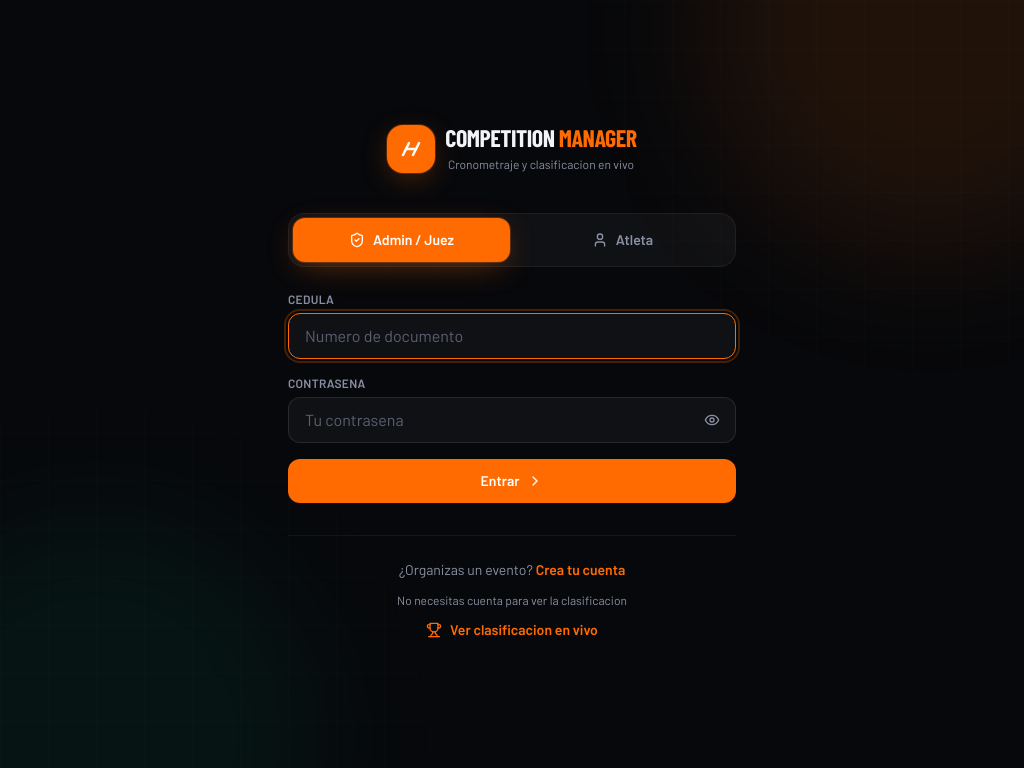
LoginPage › switches to athlete mode and shows birth date field
The image size is (1024, 768).
Click the tab "Atleta": {"x": 622, "y": 240} [514, 218, 731, 262]
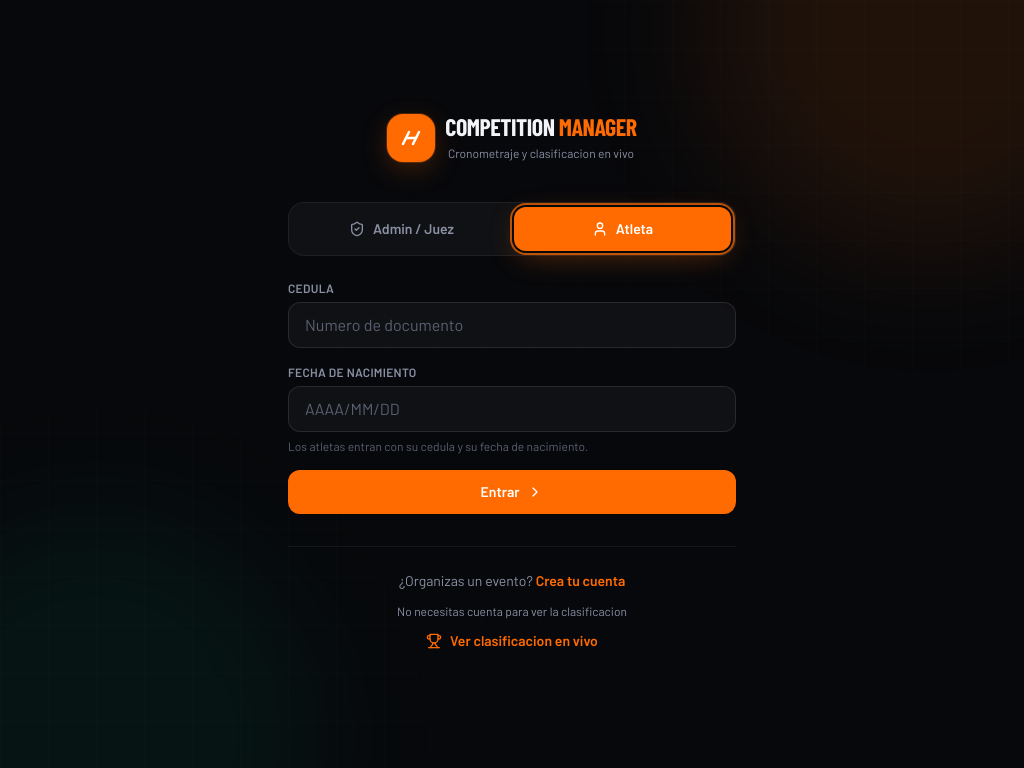
expect the field labelled "Fecha de nacimiento" is shown: met, box [288, 386, 736, 432]
expect the label labelled "Contrasena" is gone: met
